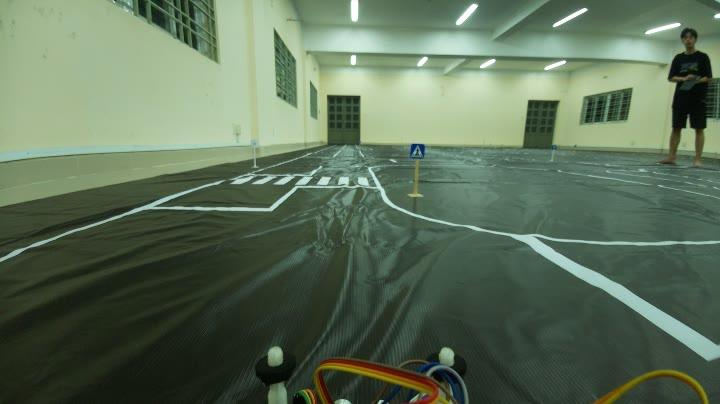crosswalk: (403, 138, 426, 164)
